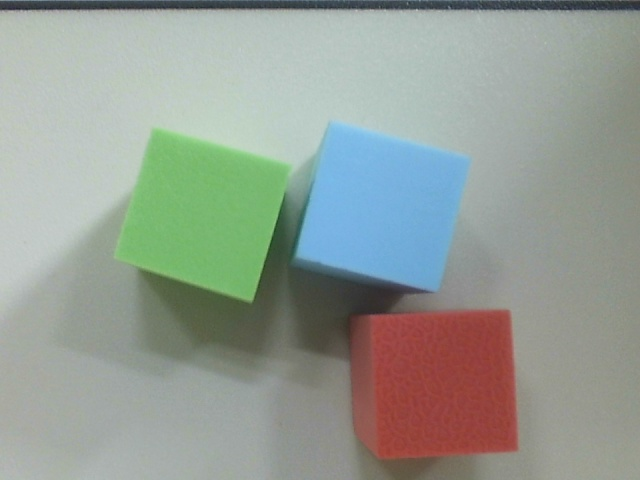greencube: (104, 120, 294, 310)
